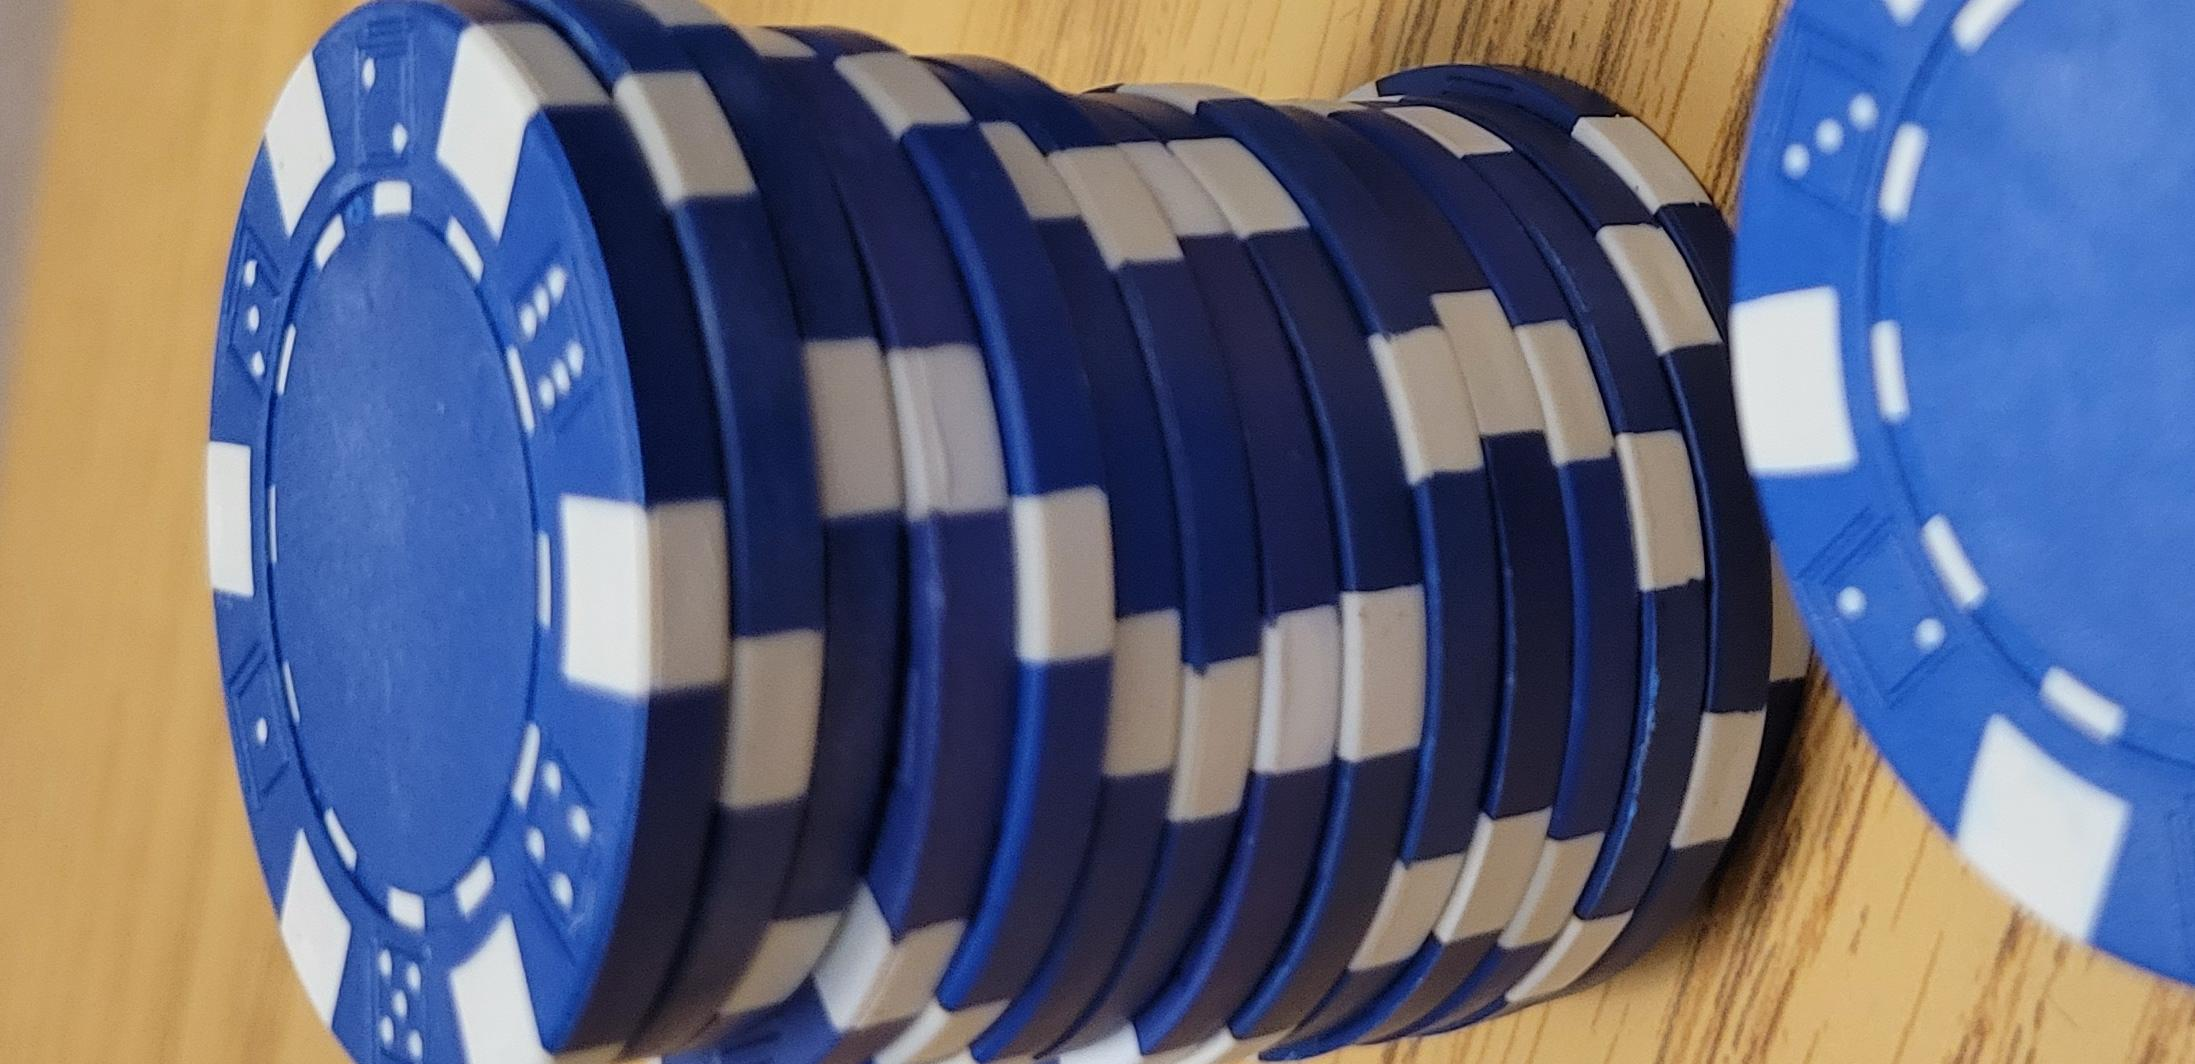Chip: (1, 526, 1550, 1064)
